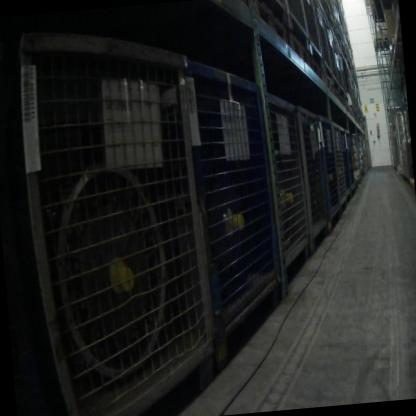pallet: (254, 0, 290, 56), (285, 30, 310, 73), (307, 50, 324, 86), (387, 36, 403, 68), (314, 0, 332, 26), (371, 35, 390, 55), (323, 74, 335, 99), (328, 16, 339, 43), (333, 84, 342, 108), (407, 176, 416, 198), (338, 38, 347, 57), (345, 101, 353, 118), (346, 57, 352, 74), (339, 101, 347, 111)
stillage: (0, 27, 219, 416), (184, 48, 289, 358), (263, 78, 313, 297), (292, 96, 332, 252), (315, 105, 341, 226), (309, 0, 333, 79), (331, 117, 348, 219), (299, 0, 323, 61), (321, 13, 339, 85), (282, 0, 310, 44), (338, 122, 353, 203), (343, 126, 359, 199), (329, 27, 345, 100), (255, 0, 290, 27), (335, 42, 349, 103), (327, 0, 345, 47), (343, 59, 354, 110), (342, 31, 350, 71), (346, 40, 353, 78)
